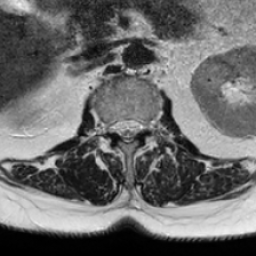CCS_normal: (122, 110, 132, 148)
LFS_stenosis: (141, 111, 152, 141)
LLS_normal: (132, 110, 141, 143)
RFS_normal: (103, 110, 112, 141)
RLS_normal: (112, 108, 122, 144)
